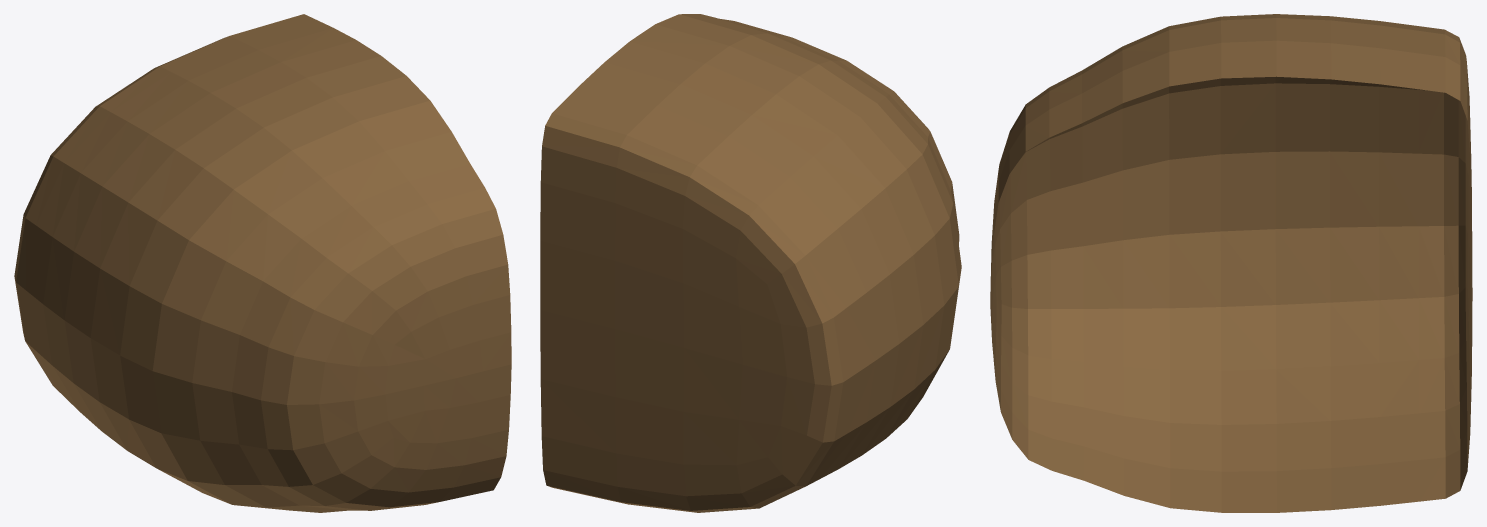
Rendered from LHsegment_joint_visu.dae.
3 renders of one model, left to right at view 1: azimuth 30°, elevation 25°; view 2: azimuth 150°, elevation 25°; view 3: azimuth 270°, elevation 25°, orthographic. The views are drawn at different scales.
Visible parts, largest first — view 1: node; view 2: node; view 3: node.
Part boxes in pixels (<box>): node: <box>14,14,511,512</box>; node: <box>540,14,961,512</box>; node: <box>990,14,1472,512</box>.
Size of the model in its own units: 0.0957 by 0.125 by 0.125.
